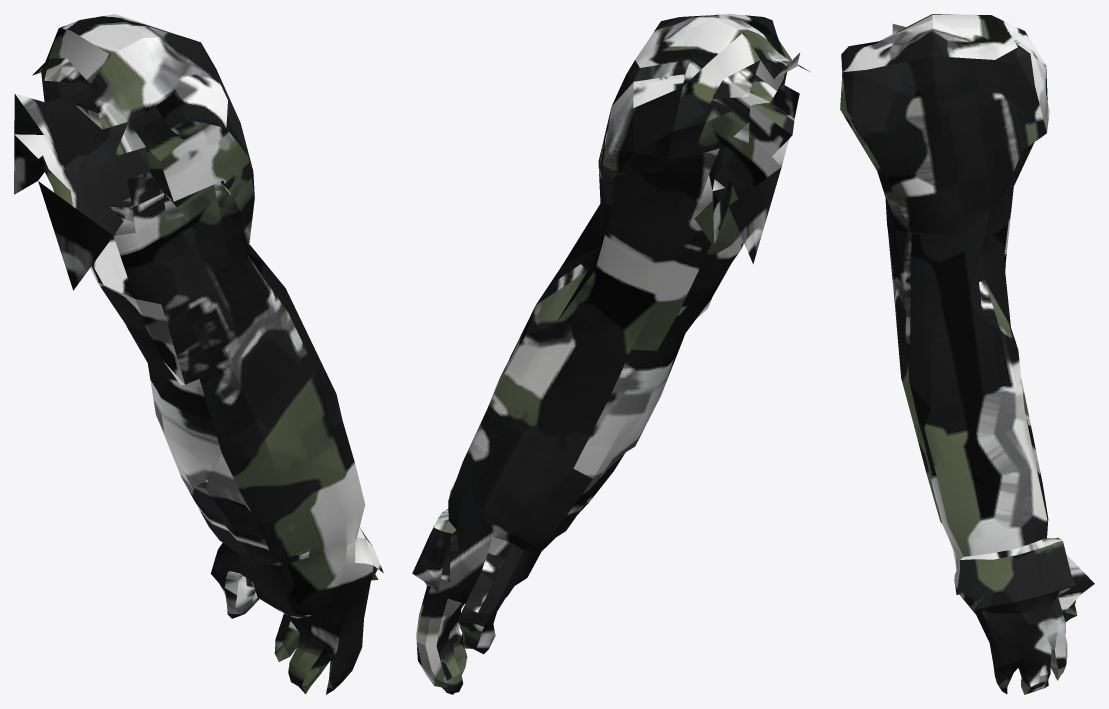
Rendered from soldier_1_arm_right.obj.
3 renders of one model, left to right at view 1: azimuth 30°, elevation 25°; view 2: azimuth 150°, elevation 25°; view 3: azimuth 270°, elevation 25°, orthographic. The views are drawn at different scales.
Parts seen in each view (by area): view 1: soldier_1_arm_right; view 2: soldier_1_arm_right; view 3: soldier_1_arm_right.
Part boxes in pixels (x1,y1,x2,y2): soldier_1_arm_right: [14, 14, 383, 694]; soldier_1_arm_right: [412, 14, 809, 694]; soldier_1_arm_right: [840, 14, 1094, 694].
Size of the model in its own units: 0.3556 by 0.7712 by 0.3015.
